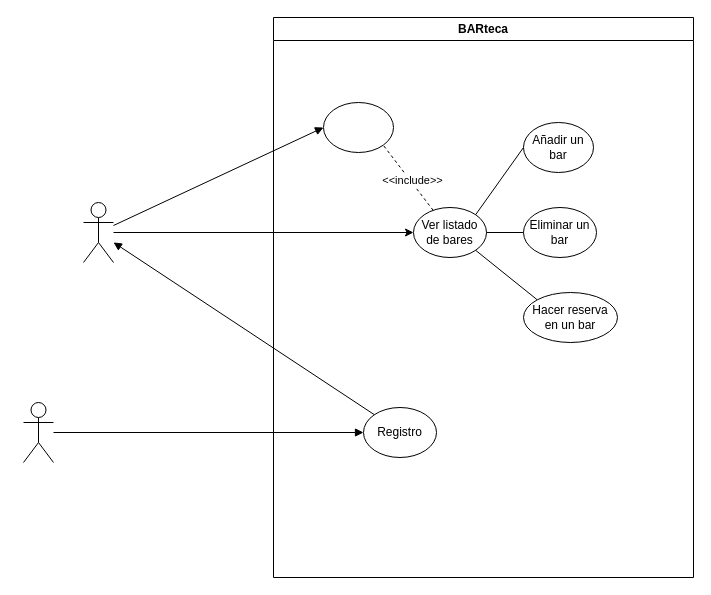
This 711x595 diagram has some shape labels left out. Here are the shapes that lost their labels. From the top down, the centre of each, then its label:
the point at 358,127: Login
the point at 98,232: Usuario Registrado
the point at 38,432: Invitado
